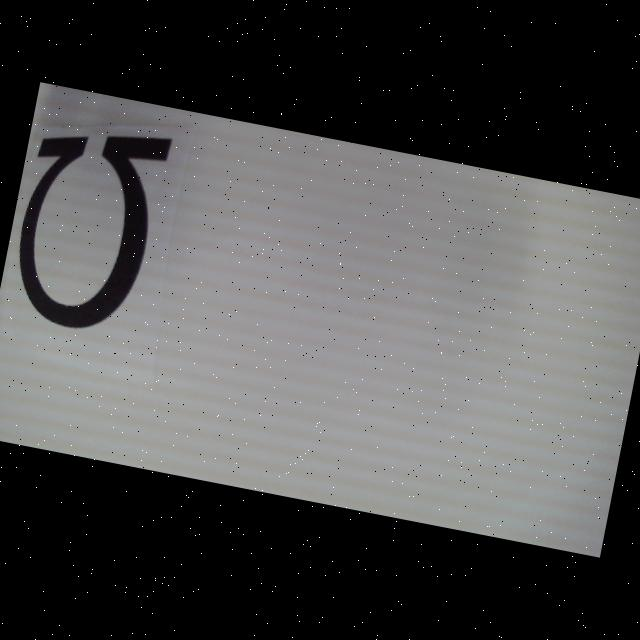OMEGA: (6, 115, 173, 340)
